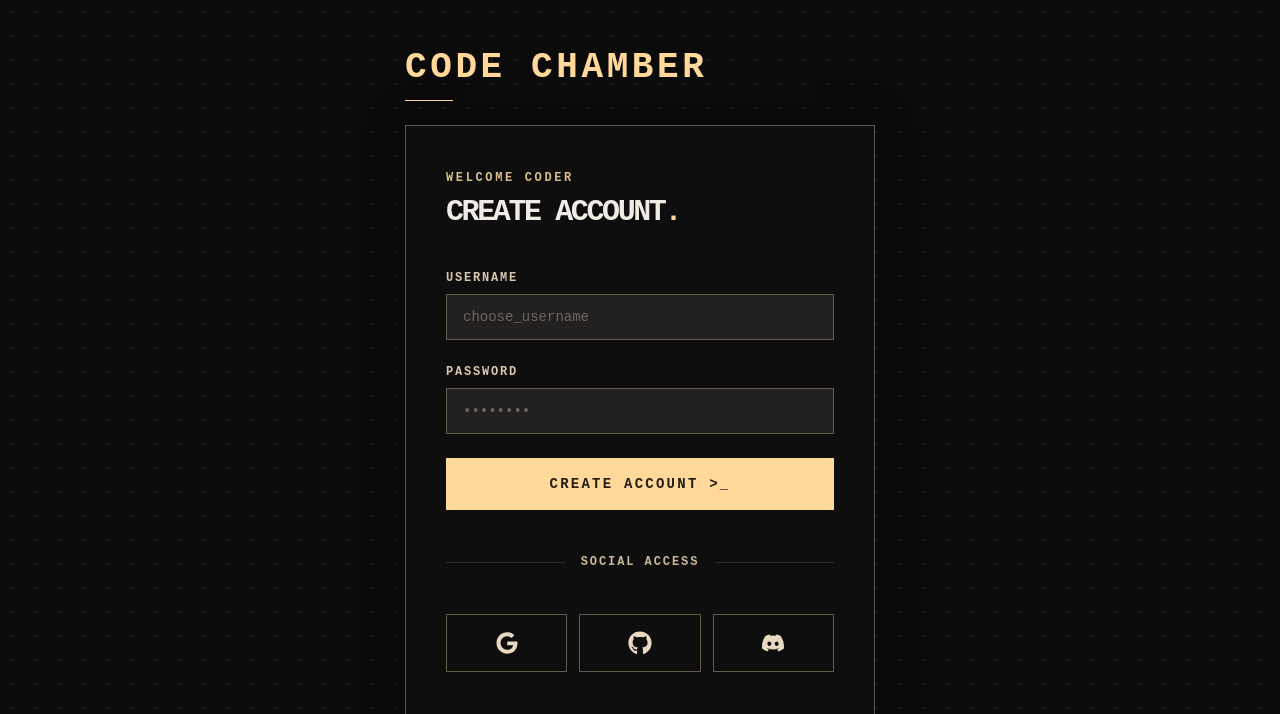
Signup - social signup › disables the manual submit button while a social login is already in flight
The image size is (1280, 714).
What coordinates should you click on to do the following:
click the button named "Continue with Google"
I would click on:
 (507, 643)
Its box is [446,614,567,672].
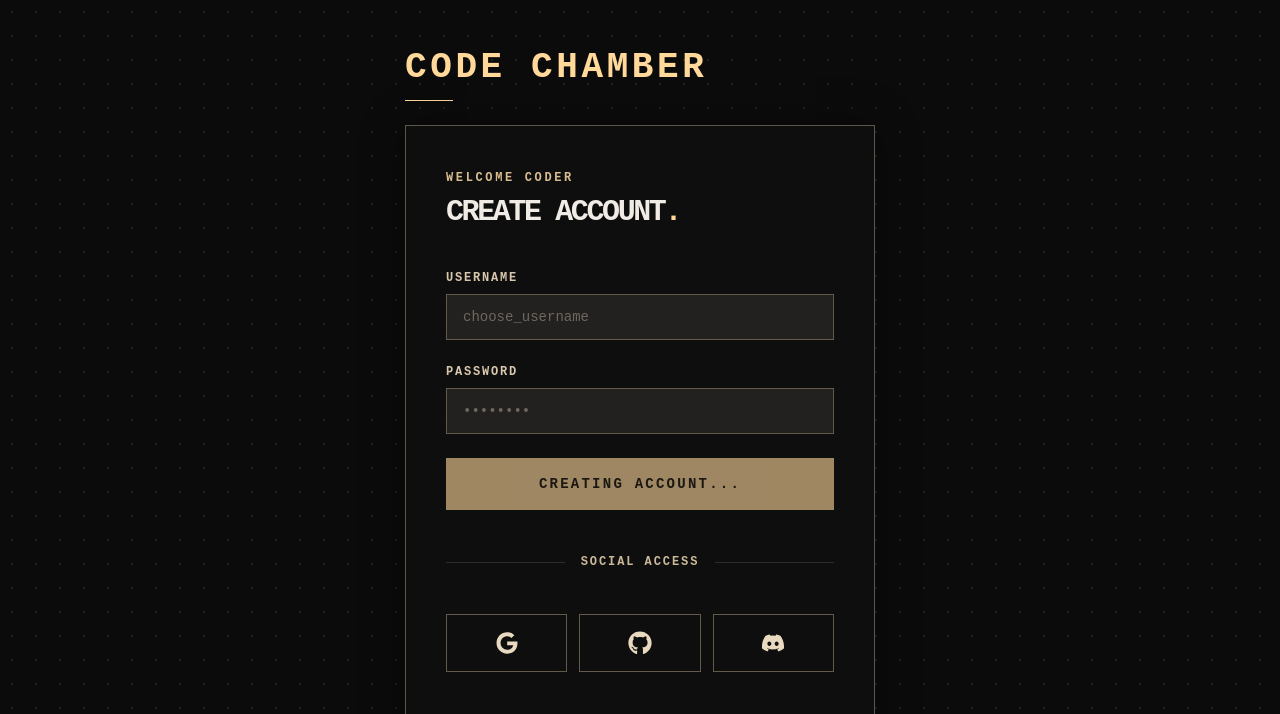
Now the button "CREATING ACCOUNT..." is disabled, box [446,458,834,510]
